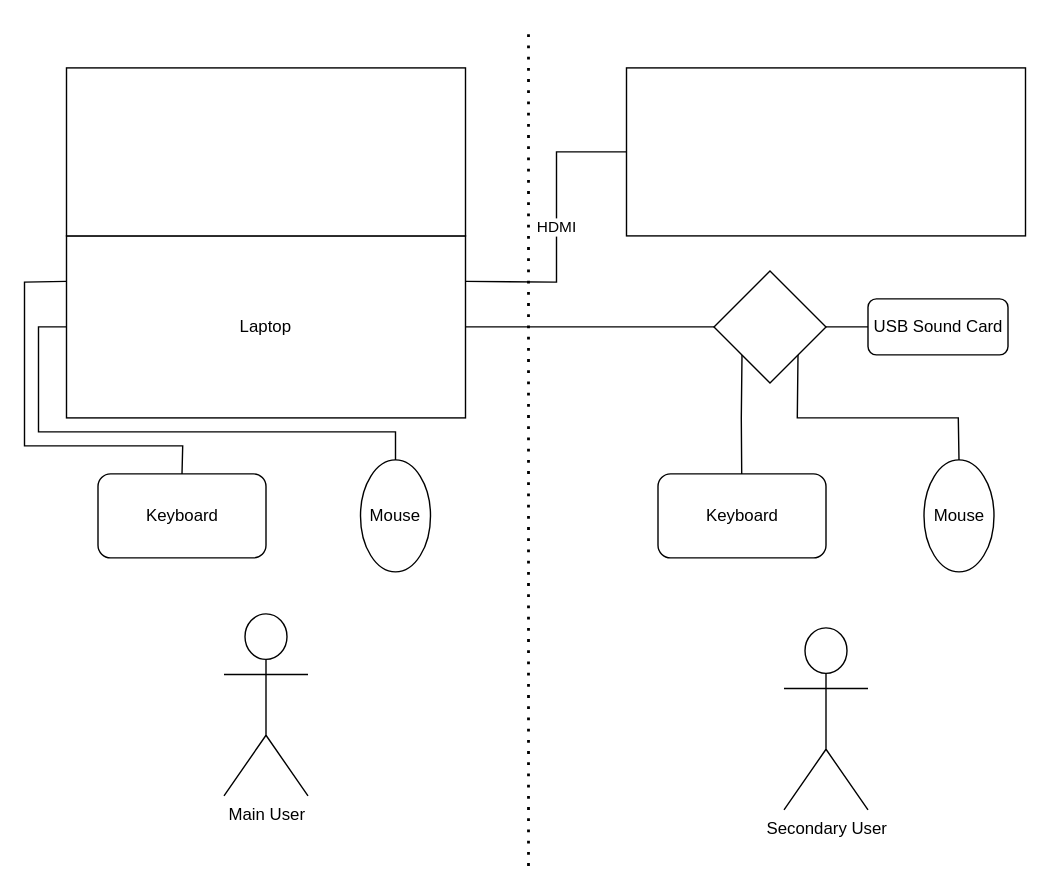
Image size: 1050x892. Some labels were removed from this diagram. Each missing label, with the centre of its shape:
Laptop Screen: the point at 265,151
Secondary Screen: the point at 825,151
USB Hub: the point at 769,326
